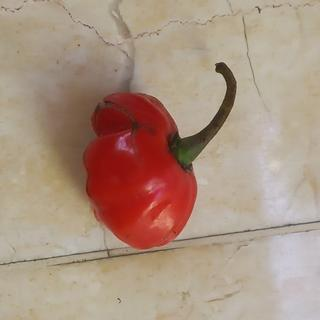striped: (93, 98, 142, 153)
